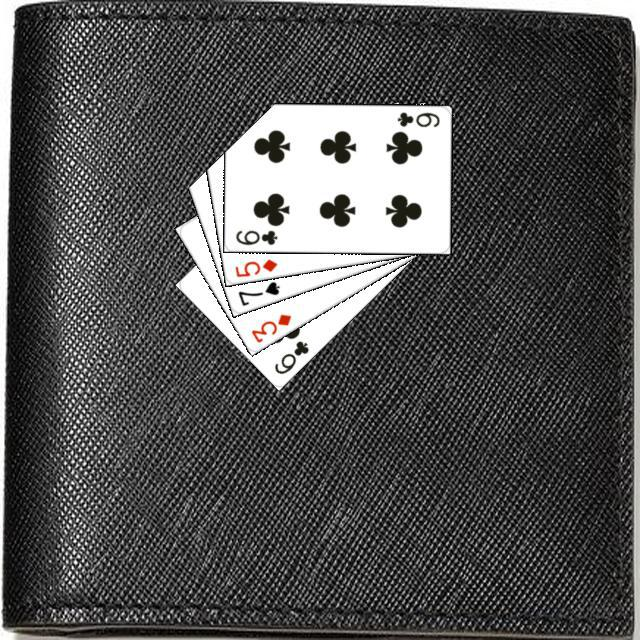3d: (246, 309, 293, 344)
5d: (230, 254, 279, 279)
6c: (269, 336, 310, 376), (392, 107, 441, 129), (231, 225, 279, 247)
7s: (233, 276, 281, 307)
